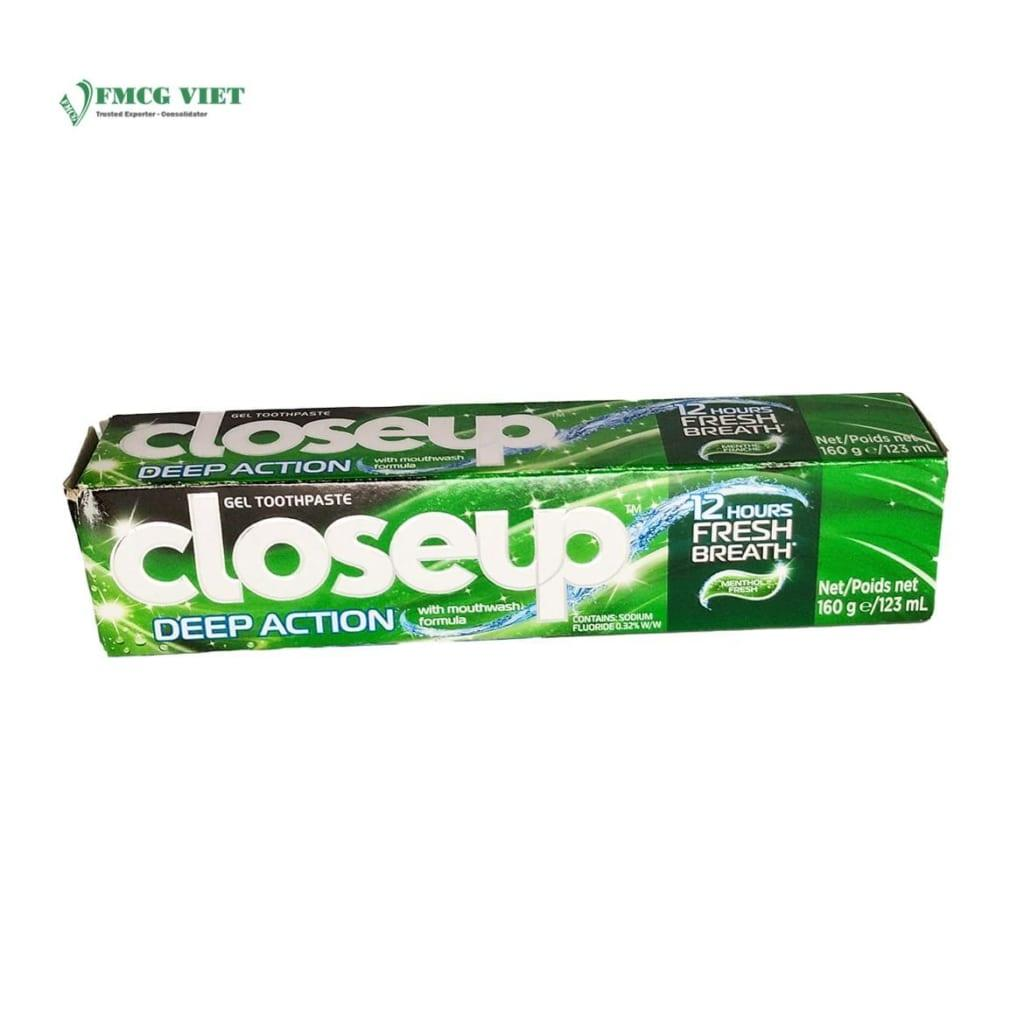toothpaste: (54, 381, 936, 656)
